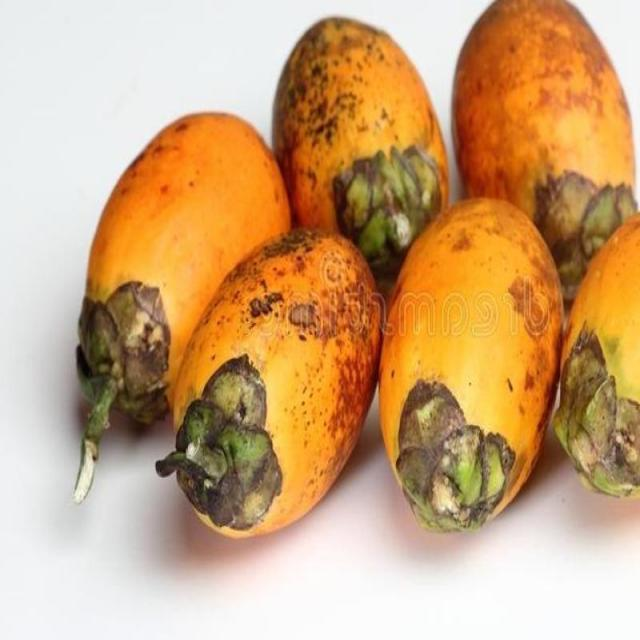good: (77, 112, 294, 494), (155, 228, 386, 543), (377, 198, 569, 537), (451, 0, 639, 306), (272, 16, 451, 299), (556, 214, 639, 500)
